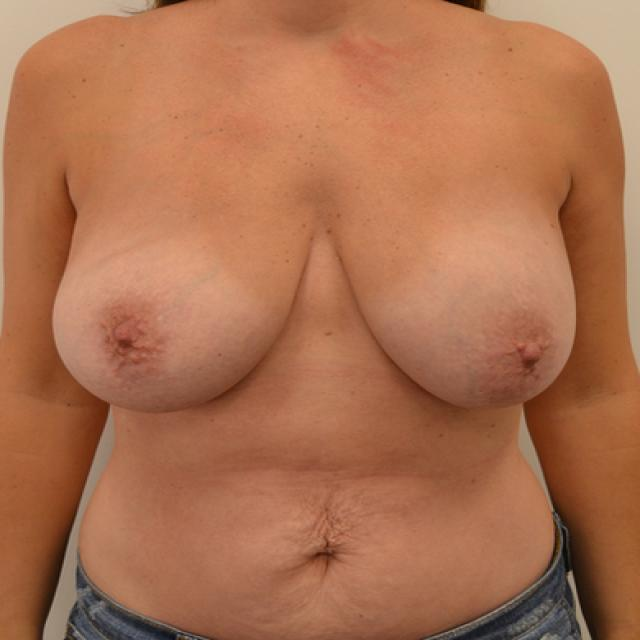Seno ileso: (46, 188, 320, 430), (325, 188, 583, 425)
